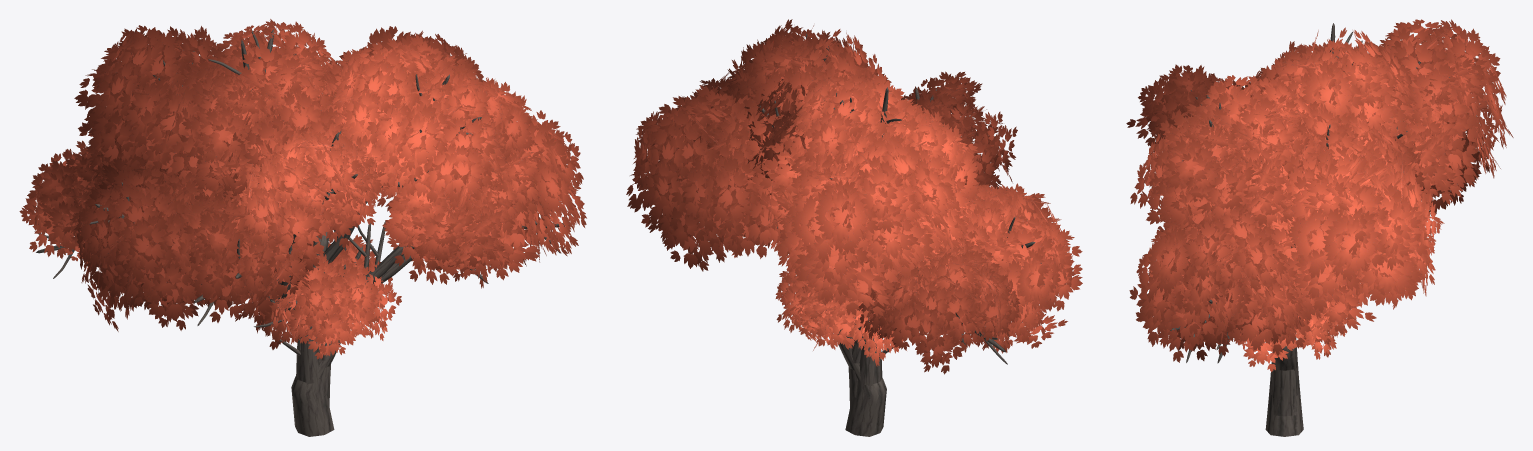
File: mapletree.glb
3 renders of one model, left to right at view 1: azimuth 30°, elevation 25°; view 2: azimuth 150°, elevation 25°; view 3: azimuth 270°, elevation 25°, orthographic. The views are drawn at different scales.
Parts seen in each view (by area): view 1: MapleTree_5, MapleTree_3, MapleTree_2, MapleTree_1, MapleTree_4; view 2: MapleTree_3, MapleTree_2, MapleTree_5, MapleTree_4, MapleTree_1; view 3: MapleTree_3, MapleTree_5, MapleTree_2, MapleTree_1, MapleTree_4.
Boxes of the visible parts, left/top/right/bottom form: MapleTree_5: left=141, top=19, right=534, bottom=406; MapleTree_3: left=74, top=25, right=586, bottom=434; MapleTree_2: left=19, top=49, right=402, bottom=436; MapleTree_1: left=194, top=86, right=559, bottom=396; MapleTree_4: left=248, top=234, right=401, bottom=359; MapleTree_3: left=626, top=68, right=1082, bottom=434; MapleTree_2: left=744, top=71, right=1020, bottom=436; MapleTree_5: left=719, top=19, right=1056, bottom=407; MapleTree_4: left=775, top=265, right=906, bottom=366; MapleTree_1: left=693, top=99, right=956, bottom=430; MapleTree_3: left=1129, top=19, right=1513, bottom=436; MapleTree_5: left=1130, top=23, right=1422, bottom=415; MapleTree_2: left=1126, top=64, right=1489, bottom=428; MapleTree_1: left=1147, top=63, right=1425, bottom=436; MapleTree_4: left=1228, top=266, right=1349, bottom=371.
Size of what is drawn, in the model's own units: 8.98 by 7.29 by 6.68.
2 materials, 2 textured.
